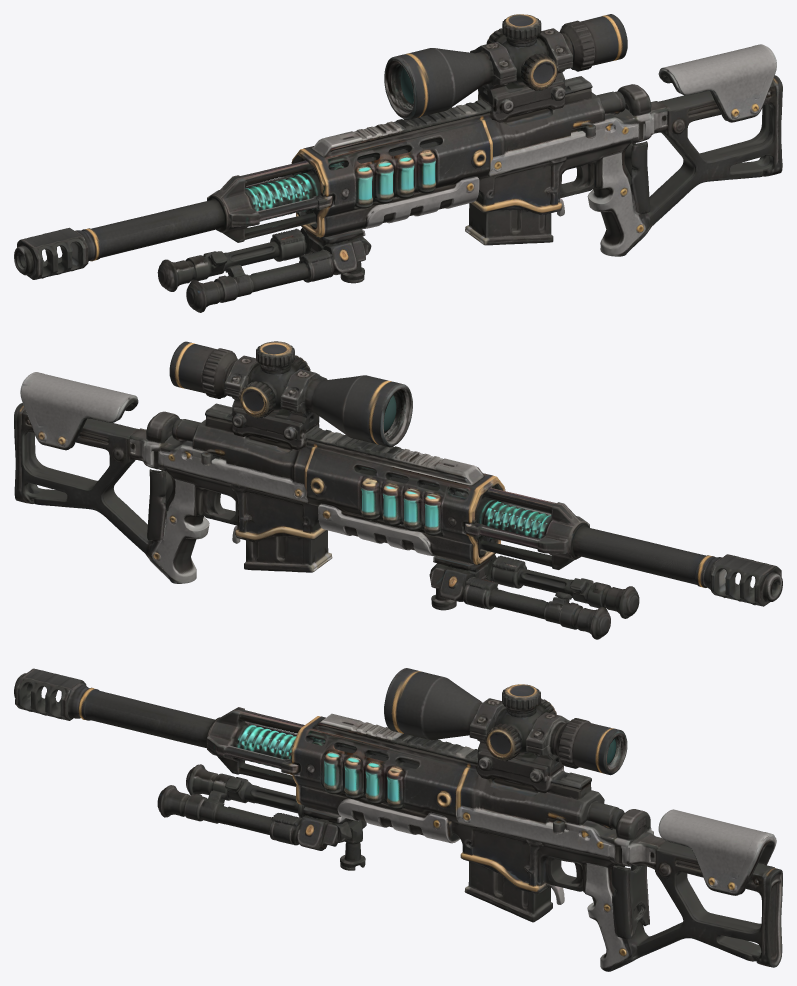
The model's file is sniper.glb.
The picture shows the model from 3 angles, top to bottom: view 1: azimuth 30°, elevation 25°; view 2: azimuth 150°, elevation 25°; view 3: azimuth 330°, elevation 25°; orthographic projection.
Visible parts, largest first — view 1: tripo_node_2e99ef66-eb6d-4268-902d-d2de4879af9c; view 2: tripo_node_2e99ef66-eb6d-4268-902d-d2de4879af9c; view 3: tripo_node_2e99ef66-eb6d-4268-902d-d2de4879af9c.
Part boxes in pixels (x1,y1,x2,y2): tripo_node_2e99ef66-eb6d-4268-902d-d2de4879af9c: (14,14,782,312); tripo_node_2e99ef66-eb6d-4268-902d-d2de4879af9c: (14,341,782,639); tripo_node_2e99ef66-eb6d-4268-902d-d2de4879af9c: (14,668,782,971).
Size of the model in its own units: 0.92 by 0.294 by 0.0951.
Materials: 1 (1 with a texture image).
